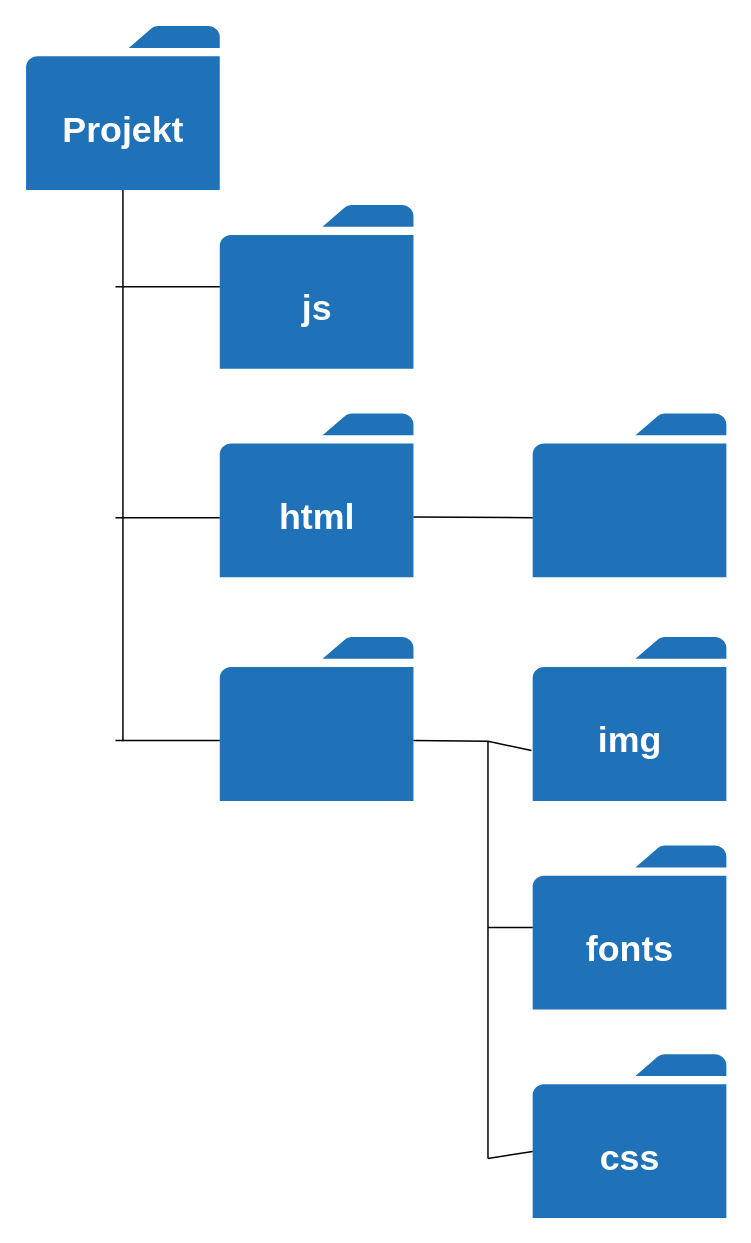
The diagram is 751 pixels wide and 1243 high, and some of its shapes have lost their labels. Each missing label, with the centre of its shape:
assets: point 316,718
nutrition: point 629,495
